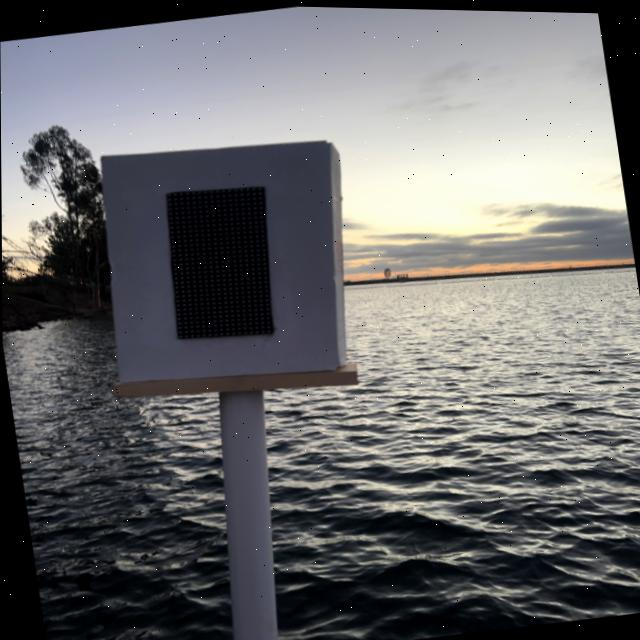led: (116, 144, 329, 378)
